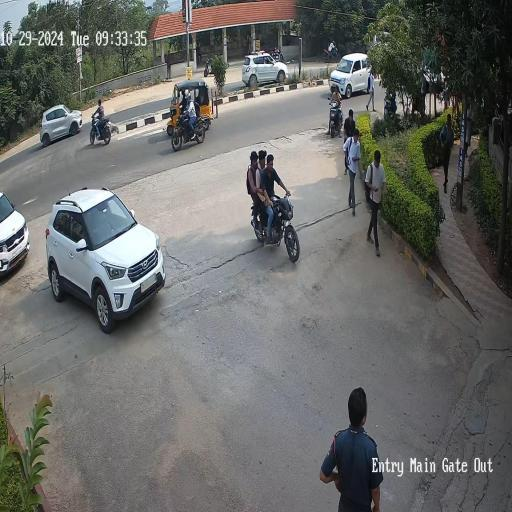helmet: (176, 89, 202, 116)
no helmet: (329, 86, 349, 113), (92, 94, 109, 116)
triple riding: (245, 148, 303, 261)
